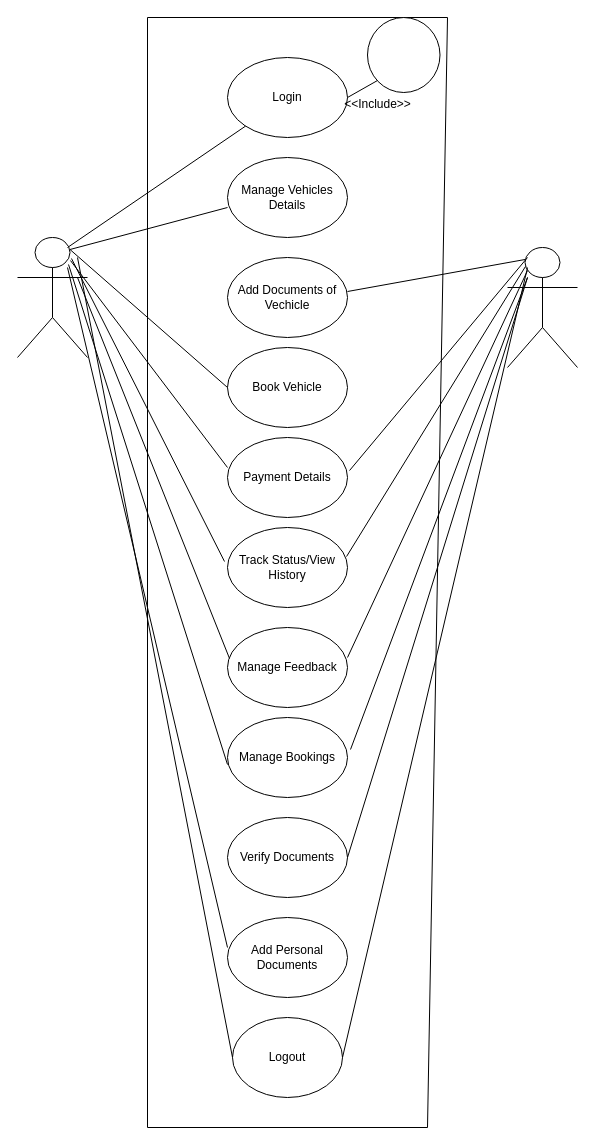
The diagram is 596 pixels wide and 1146 high, and some of its shapes have lost their labels. The shapes that lost their labels are listed below. From the top down, each one's centre as x and y in pixels, then its label:
At [403,54]: "Registration".
At [52,297]: "User/Buyer".
At [542,307]: "Admin/Dealer".
